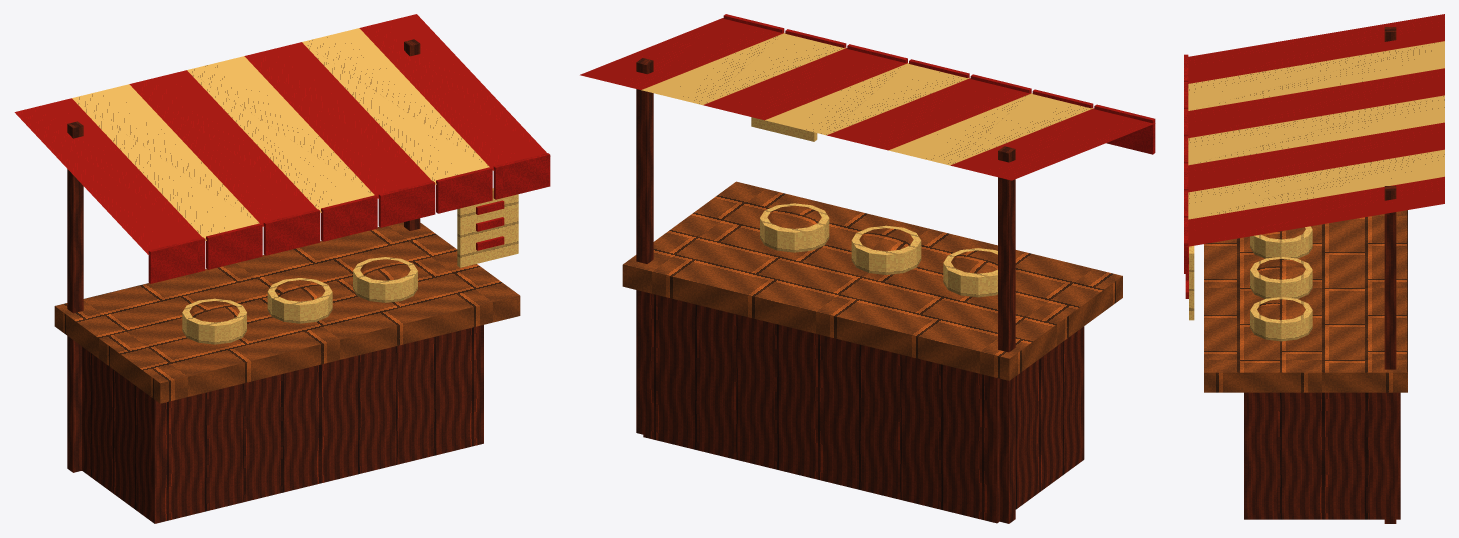
File: noodle_stall.glb
3 views of the same model, side by side, from view 1: azimuth 30°, elevation 25°; view 2: azimuth 150°, elevation 25°; view 3: azimuth 270°, elevation 25° (orthographic). The views are drawn at different scales.
Visible parts, largest first — view 1: noodle_stall; view 2: noodle_stall; view 3: noodle_stall.
Boxes of the visible parts, bbox=[...] form: noodle_stall: bbox=[14, 14, 550, 523]; noodle_stall: bbox=[580, 14, 1155, 523]; noodle_stall: bbox=[1184, 14, 1444, 523].
Size of the model in its own units: 3.3 by 2.7 by 1.91.
4 materials, 4 textured.
